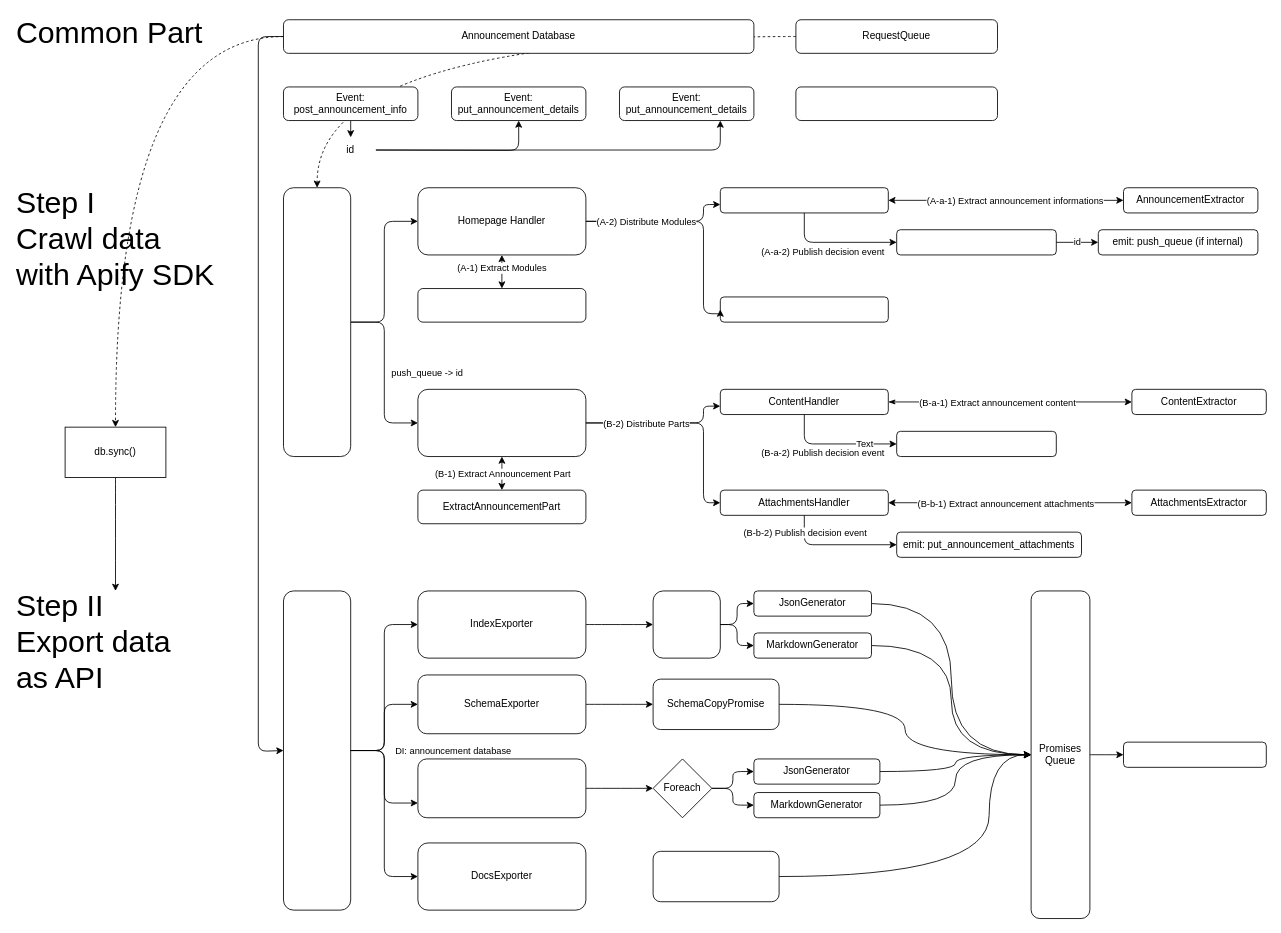
The diagram is 1281 pixels wide and 933 high, and some of its shapes have lost their labels. Each missing label, with the centre of its shape:
/WIP/ UsefulLinksHandler: (x=803, y=309)
Announcement Content Handler: (x=501, y=422)
AnnouncementExporter: (x=501, y=788)
AnnouncementModuleHandler: (x=803, y=200)
DocsCopyPromise: (x=715, y=876)
emit: post_announcement_info: (x=976, y=242)
emit: put_announcement_details: (x=976, y=443)
Event: push_queue: (x=896, y=103)
Exporters: (x=317, y=750)
ExtractModules: (x=501, y=305)
Indexer: (x=686, y=624)
Promise.all(): (x=1194, y=754)
Router: (x=317, y=322)
